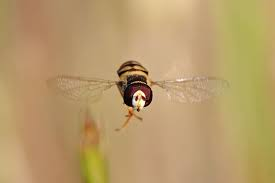insect: (53, 60, 226, 131)
